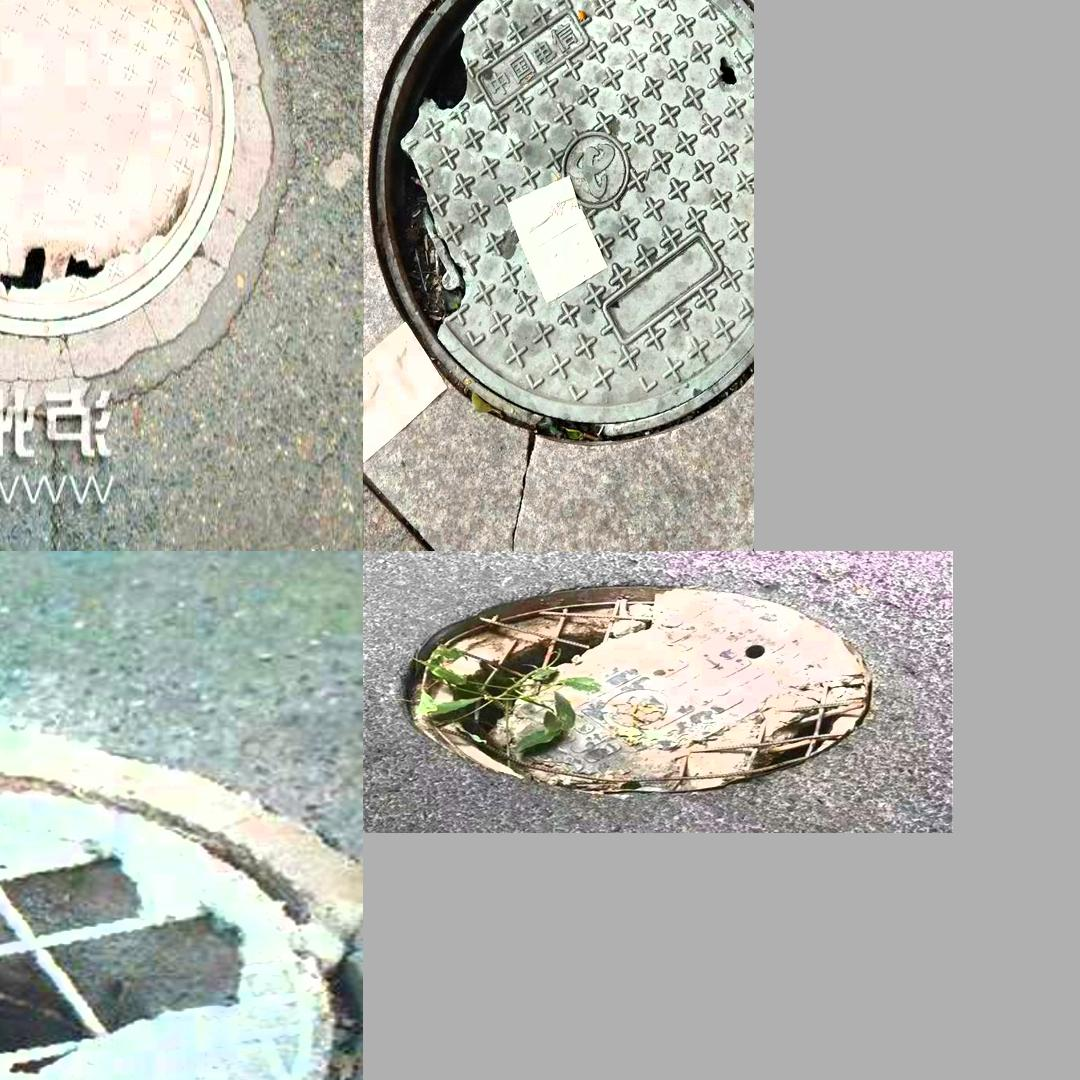broke: (371, 0, 748, 448), (0, 683, 342, 1080), (0, 0, 292, 391), (394, 580, 878, 797)
